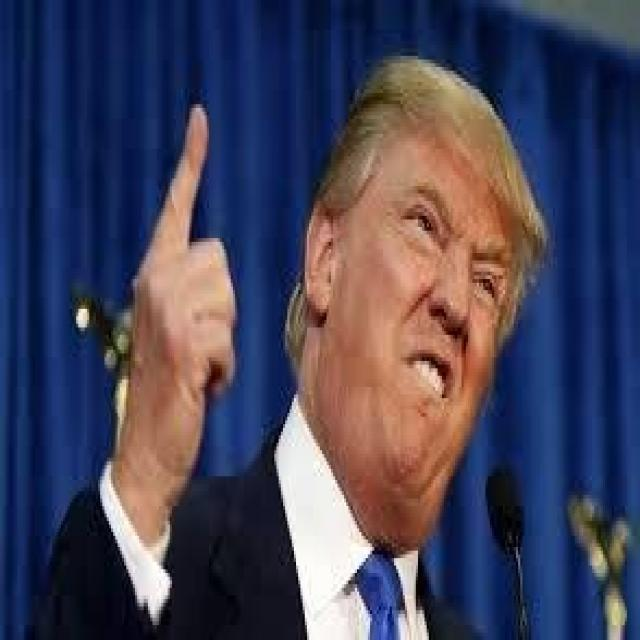person: (32, 41, 586, 636)
